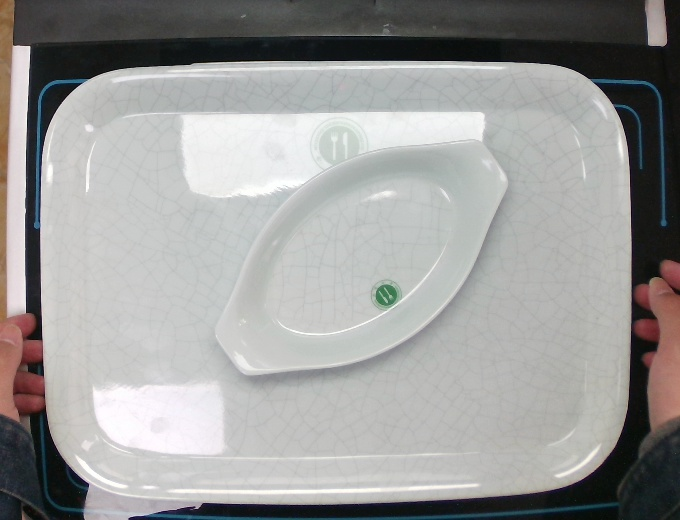JYsf-Yu_Pan: (210, 132, 510, 385)
